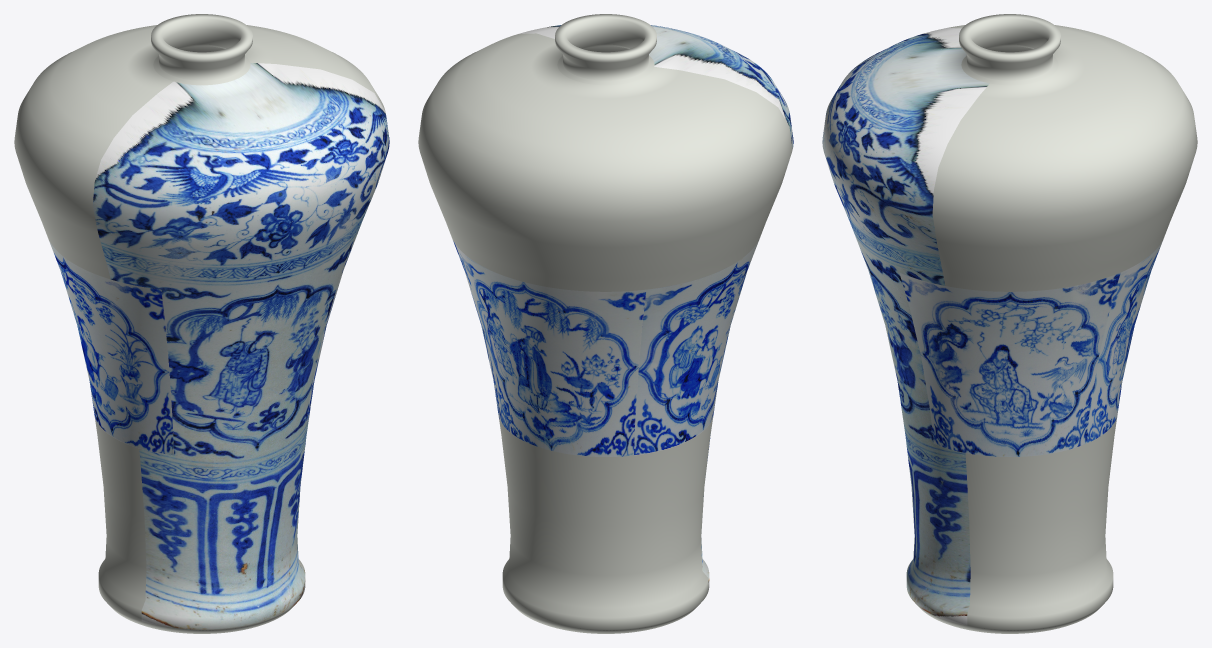
3 renders of one model, left to right at view 1: azimuth 30°, elevation 25°; view 2: azimuth 150°, elevation 25°; view 3: azimuth 270°, elevation 25°, orthographic.
Visible parts, largest first — view 1: WEB_A07; view 2: WEB_A07; view 3: WEB_A07.
Boxes of the visible parts, x1,y1,x2,y2 form: WEB_A07: (14,14,389,633); WEB_A07: (418,14,793,633); WEB_A07: (822,14,1197,633).
Size of the model in its own units: 0.236 by 0.387 by 0.236.
Materials: 5 (4 with a texture image).
